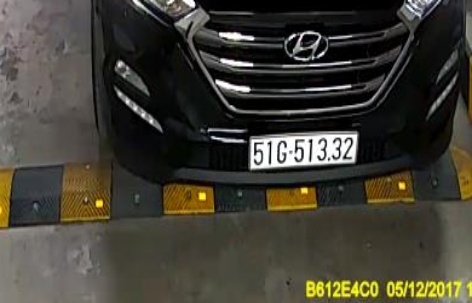plate: (246, 125, 364, 172)
